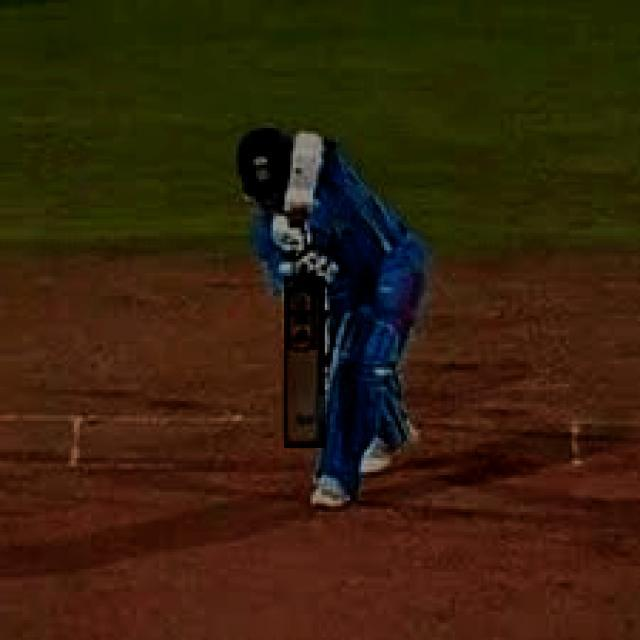bat: (288, 273, 324, 443)
